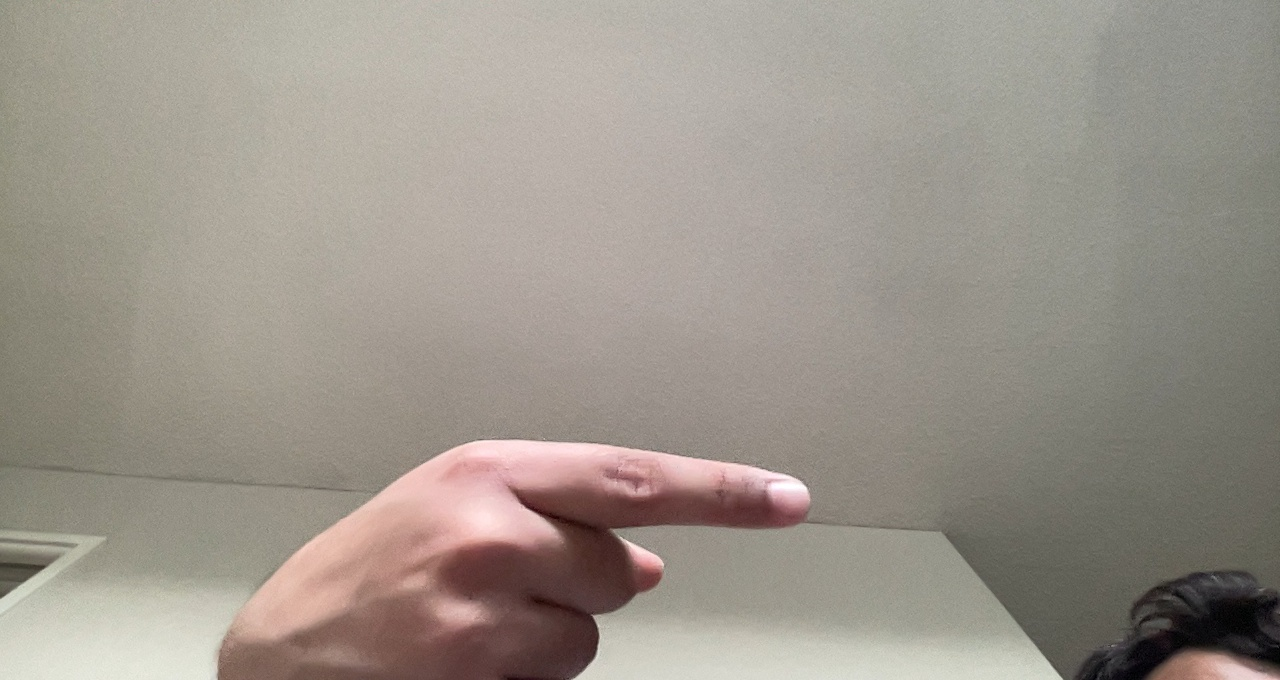fingerleft: (272, 436, 816, 671)
